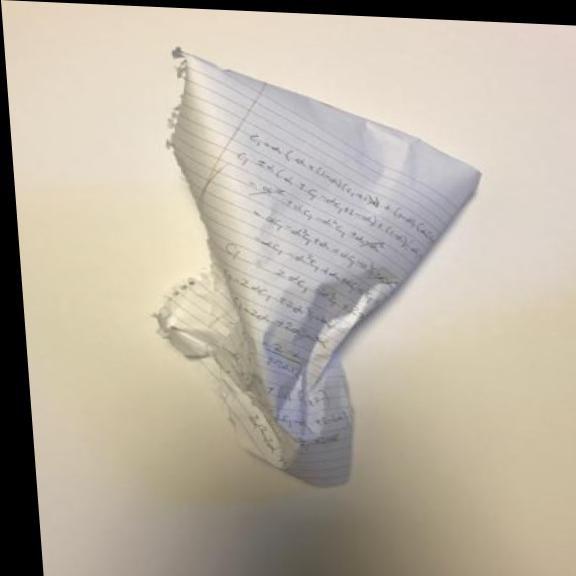Kertas: (129, 49, 508, 504)
